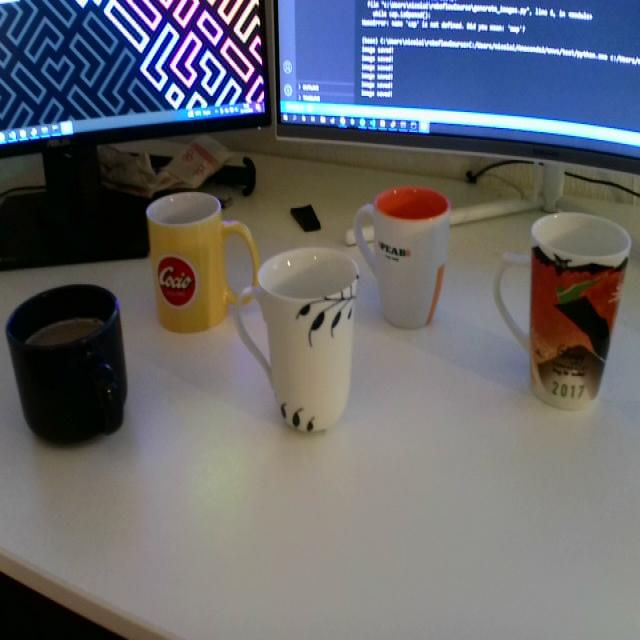Cocio Cup: (147, 190, 262, 334)
Cup: (2, 283, 129, 446)
Halloween cup: (525, 211, 629, 414)
Hand painted cup: (237, 242, 360, 432)
White Cup: (350, 183, 451, 331)
